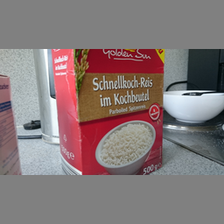rice: (50, 49, 166, 174)
